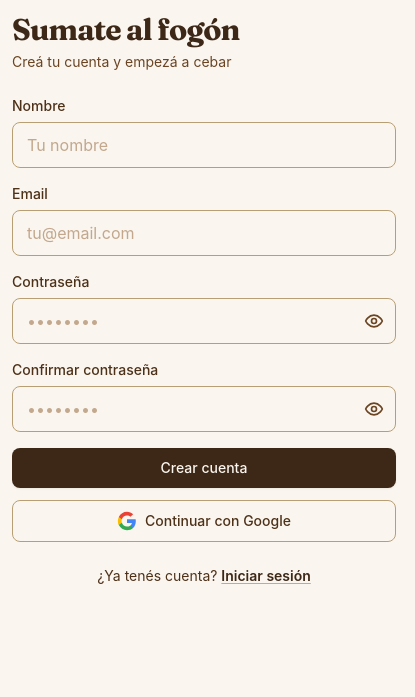
<RegisterPage /> (formulario de registro) › muestra error si la contraseña es menor a 6 caracteres
Type "123" into the password field labelled "Contraseña" at (204, 321), box 12,298 -> 396,344
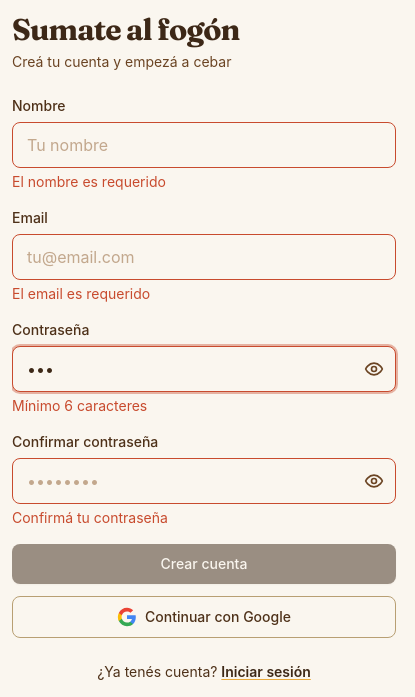
Expected: the text "Mínimo 6 caracteres" is shown, 12,397 -> 147,414
